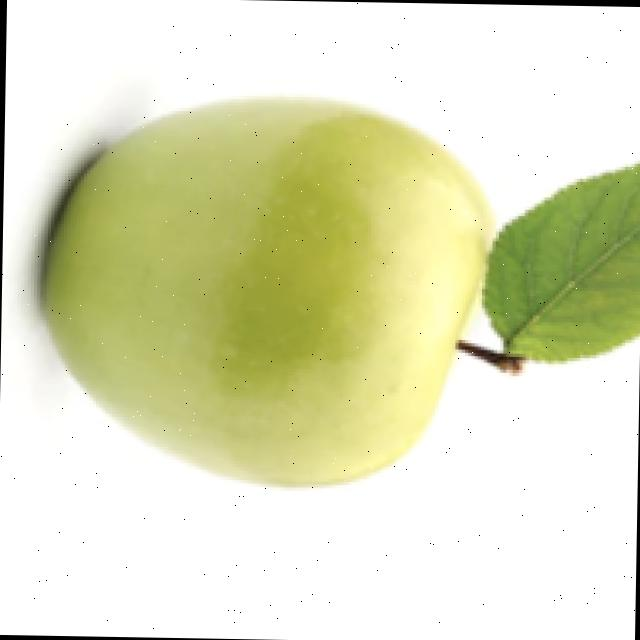apple: (6, 92, 640, 493)
